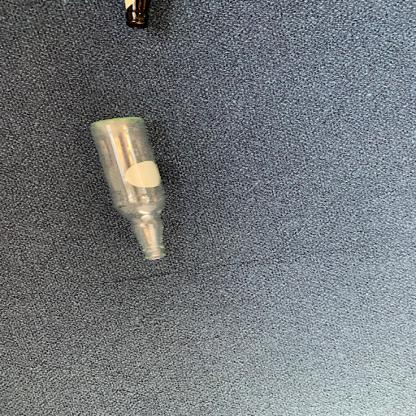trash: (86, 112, 180, 262)
